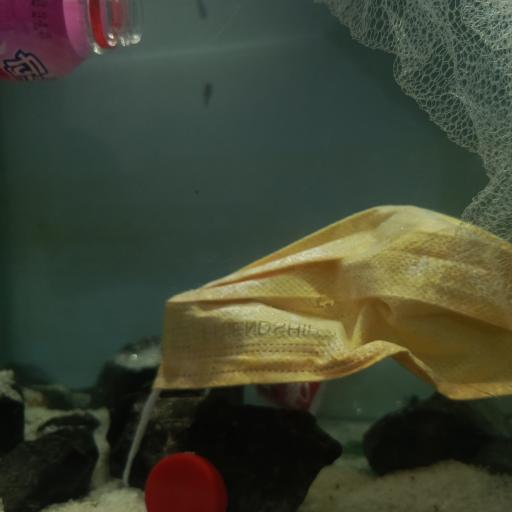bottle_cap: (145, 450, 225, 512)
mask: (128, 201, 512, 402)
net: (334, 0, 512, 288)
plastic_bottle: (1, 0, 145, 88), (242, 368, 420, 422)
